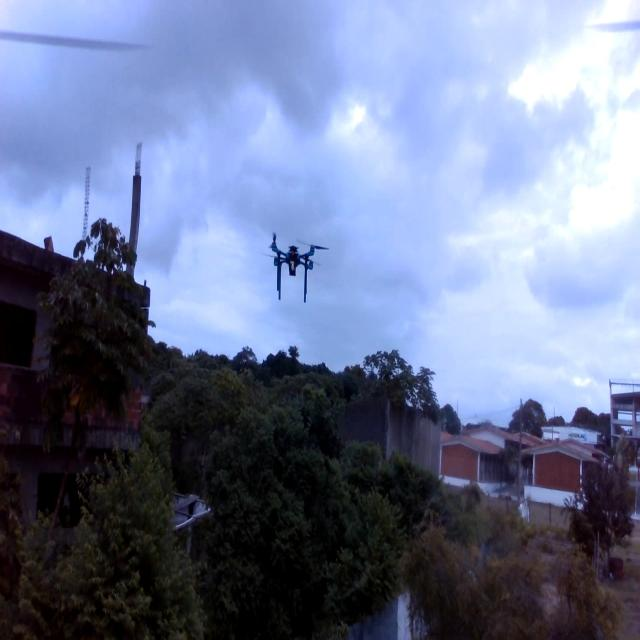-uav-: (259, 221, 333, 314)
